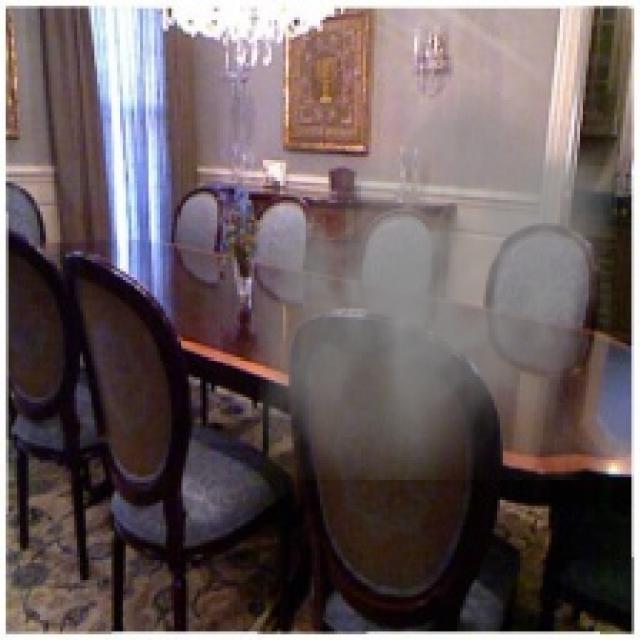Smoke: (257, 74, 617, 480)
